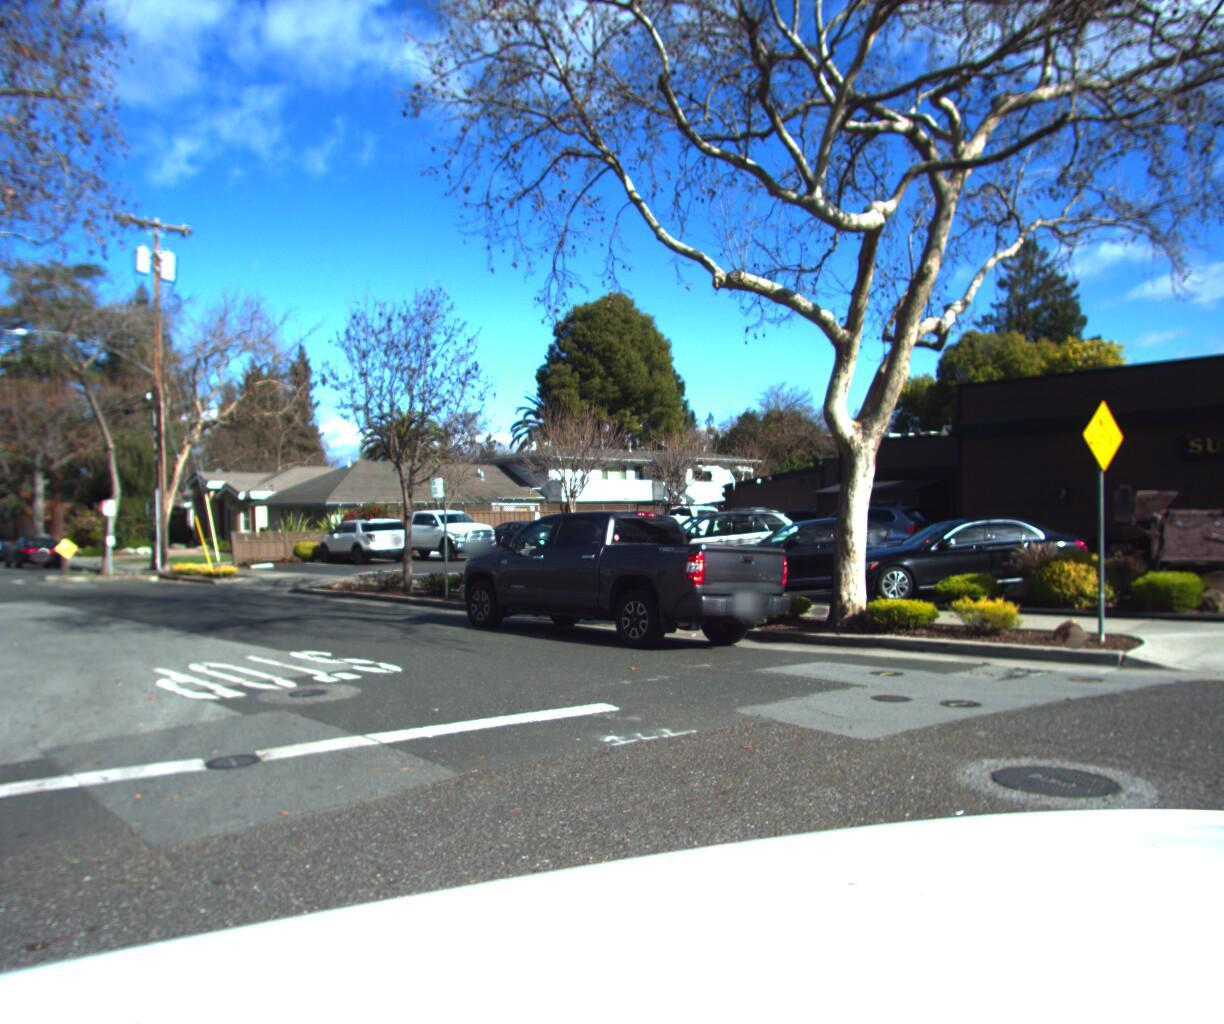car: (455, 498, 810, 673), (818, 508, 1117, 599), (682, 506, 954, 589), (605, 500, 818, 580)
